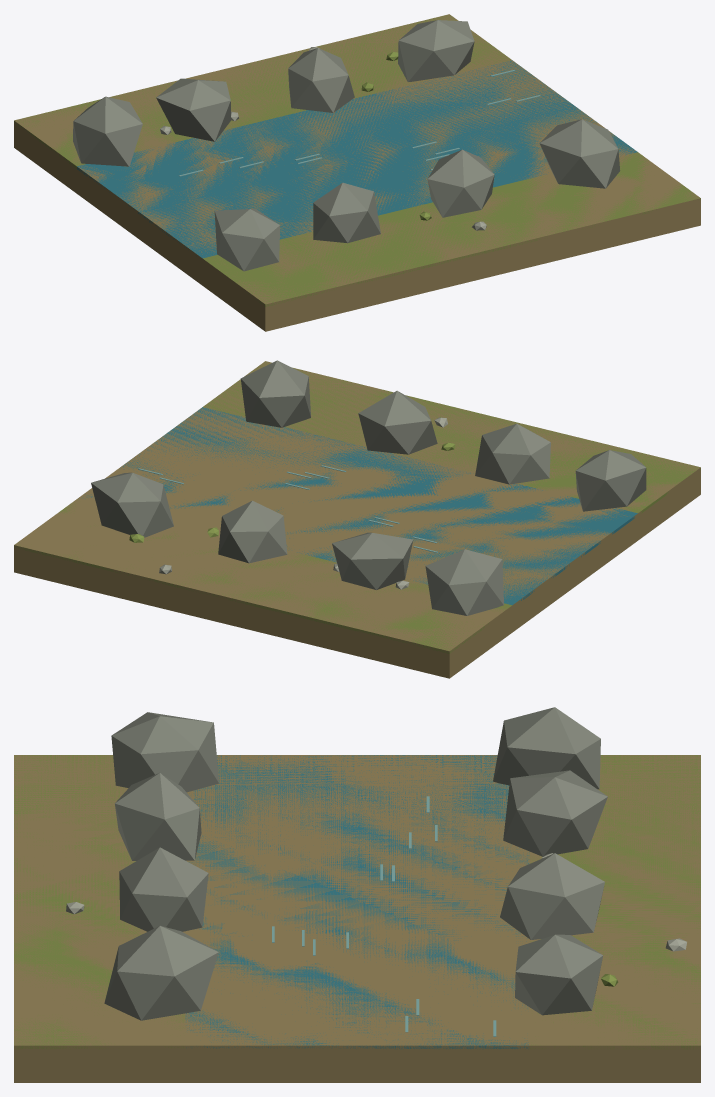
File: BP_Tile_River_4m.fbx
The picture shows the model from 3 angles, top to bottom: view 1: azimuth 30°, elevation 25°; view 2: azimuth 150°, elevation 25°; view 3: azimuth 270°, elevation 25°; orthographic projection. The views are drawn at different scales.
Parts seen in each view (by area): view 1: BP_Tile_River_4m; view 2: BP_Tile_River_4m; view 3: BP_Tile_River_4m.
Boxes of the visible parts, box(x1,y1,x2,y2) form: BP_Tile_River_4m: box(14, 14, 700, 331); BP_Tile_River_4m: box(14, 360, 700, 678); BP_Tile_River_4m: box(14, 707, 700, 1082).
Bounding box in the file's own units: 400 × 72.97 × 400.
